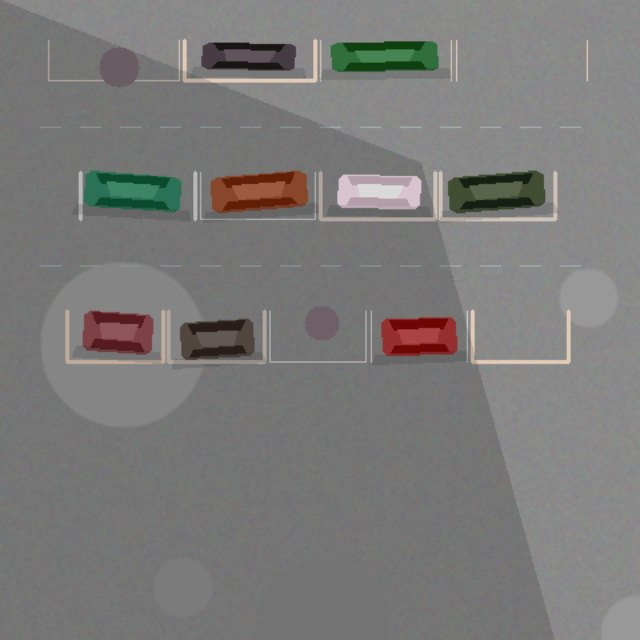space-empty: (48, 40, 179, 80), (456, 40, 587, 80), (269, 311, 365, 361), (472, 311, 568, 361)
space-occupied: (80, 172, 195, 219), (200, 172, 315, 219), (320, 172, 435, 219), (440, 172, 555, 219), (184, 40, 315, 80), (320, 40, 451, 80), (67, 311, 163, 361), (168, 311, 264, 361), (371, 311, 467, 361)
